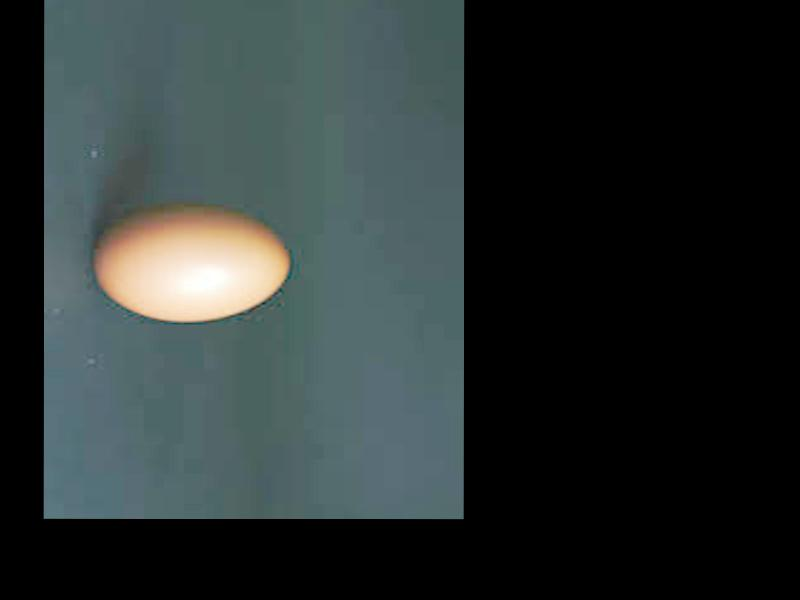Eggs: (93, 207, 288, 320)
